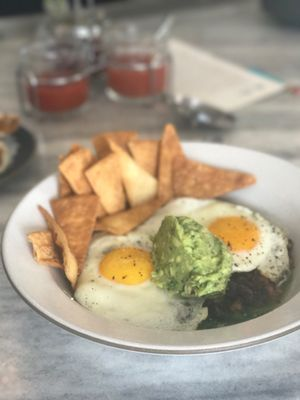curry: (150, 215, 234, 300)
pizza: (17, 5, 107, 122), (102, 16, 177, 105)
